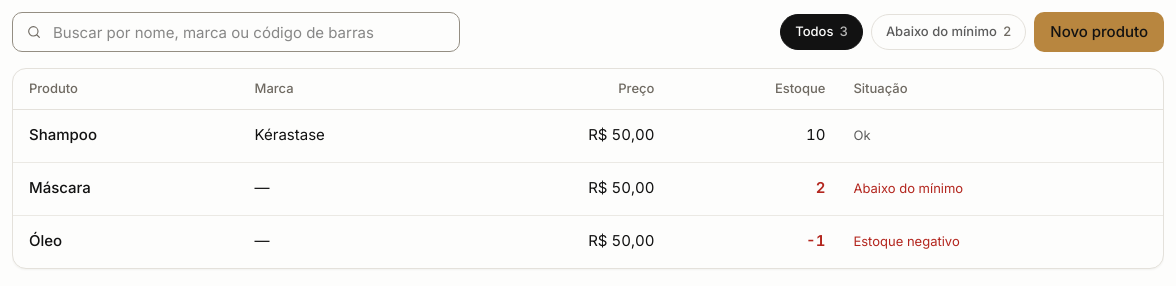
Test case: o chip Abaixo do mínimo filtra a lista, e o estoque negativo tem rótulo próprio
Expected: the text "Estoque negativo" is shown, x1=837 y1=215 x2=1163 y2=268
Click the button "Abaixo do mínimo 2" at (949, 32), box x1=871 y1=14 x2=1026 y2=50
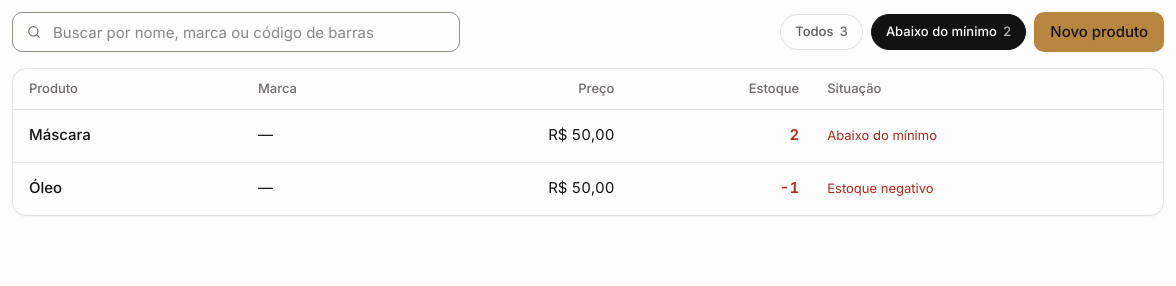
Expected: the button "Máscara" is shown, x1=29 y1=114 x2=230 y2=158
Now the button "Shampoo" is gone
